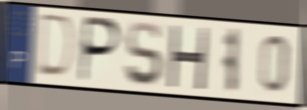0: (258, 33, 292, 97)
1: (222, 26, 242, 97)
D: (34, 11, 78, 82)
H: (166, 23, 210, 92)
P: (77, 14, 123, 85)
S: (124, 19, 165, 89)
